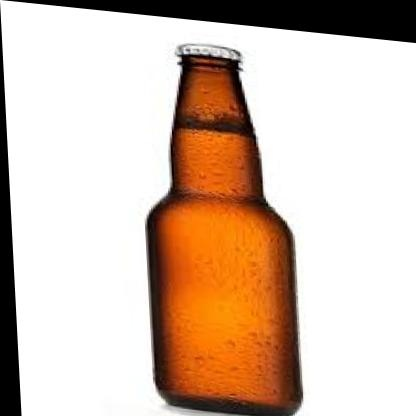trash: (147, 44, 301, 415)
